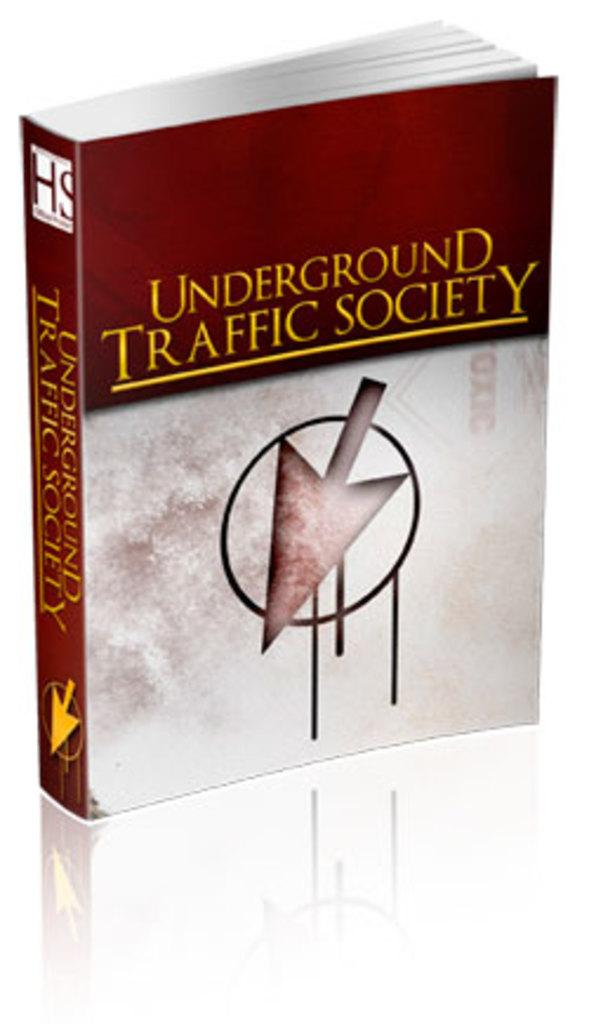book: (16, 12, 542, 826)
